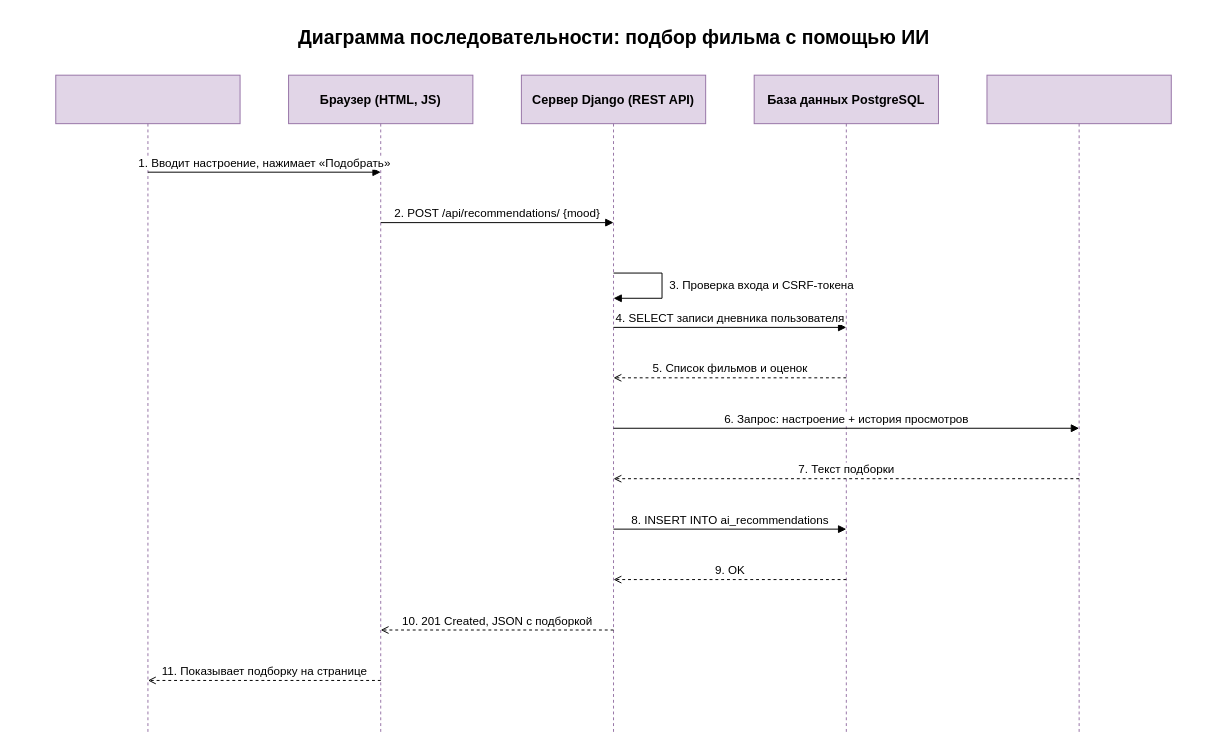
This 1226x752 diagram has some shape labels left out. The shapes that lost their labels are listed below. From the top down, each one's box as (x1, y1, x2, y2) in pixels, then its label:
(55, 74, 240, 735): Пользователь
(986, 74, 1171, 735): ИИ-сервис (API нейросети)
